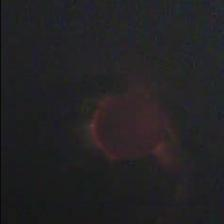fertile: (85, 89, 167, 162)
